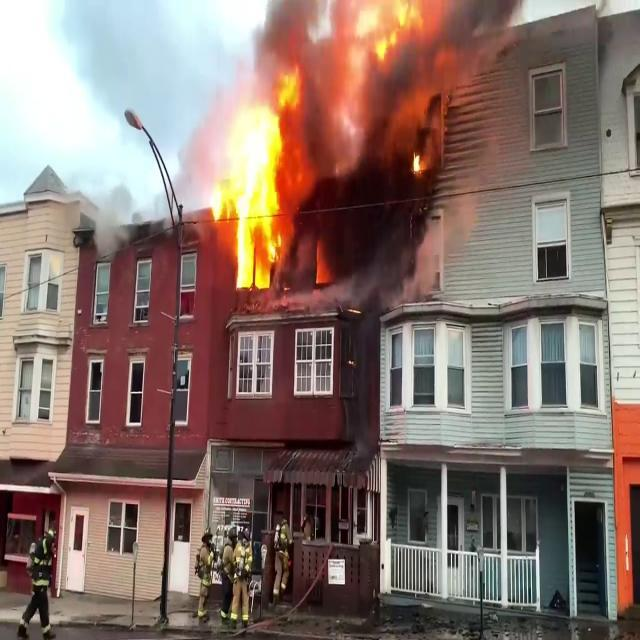Fire: (206, 60, 305, 294)
Smoke: (285, 0, 455, 287)
